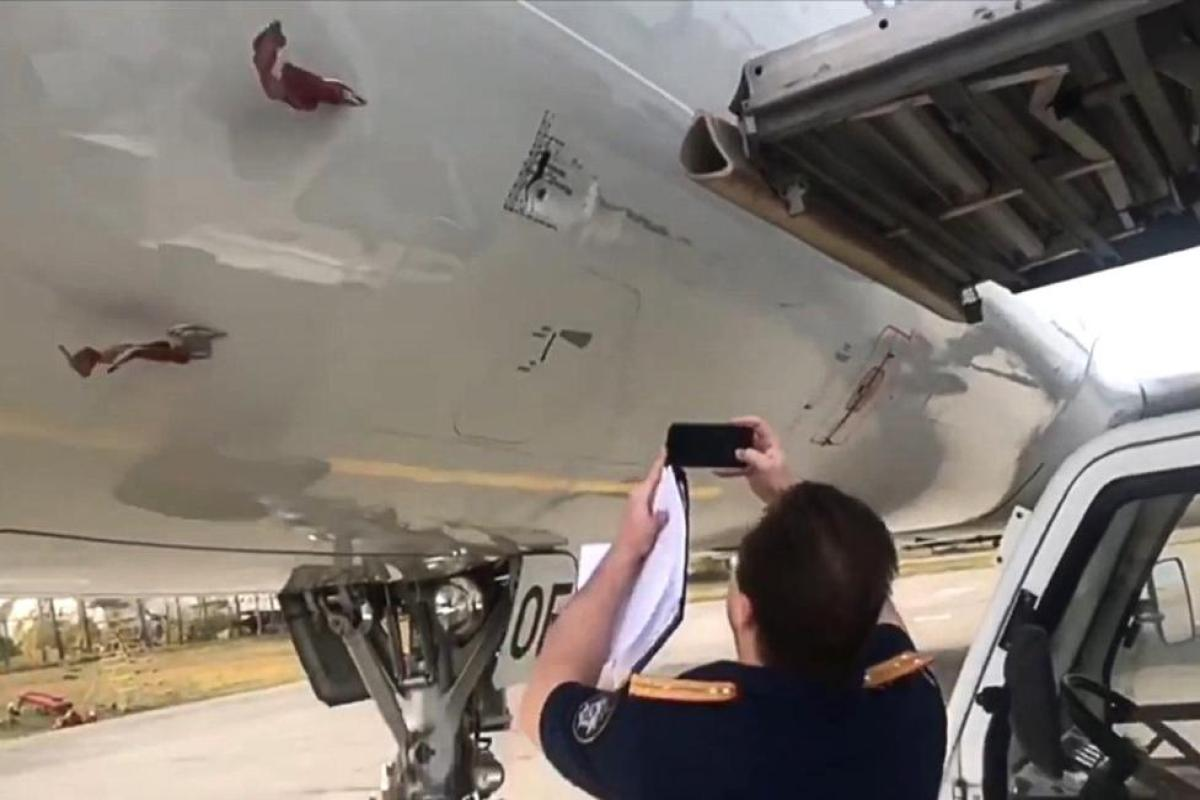Fuselage_damage: (497, 106, 697, 256), (249, 17, 370, 114), (507, 320, 598, 379)
